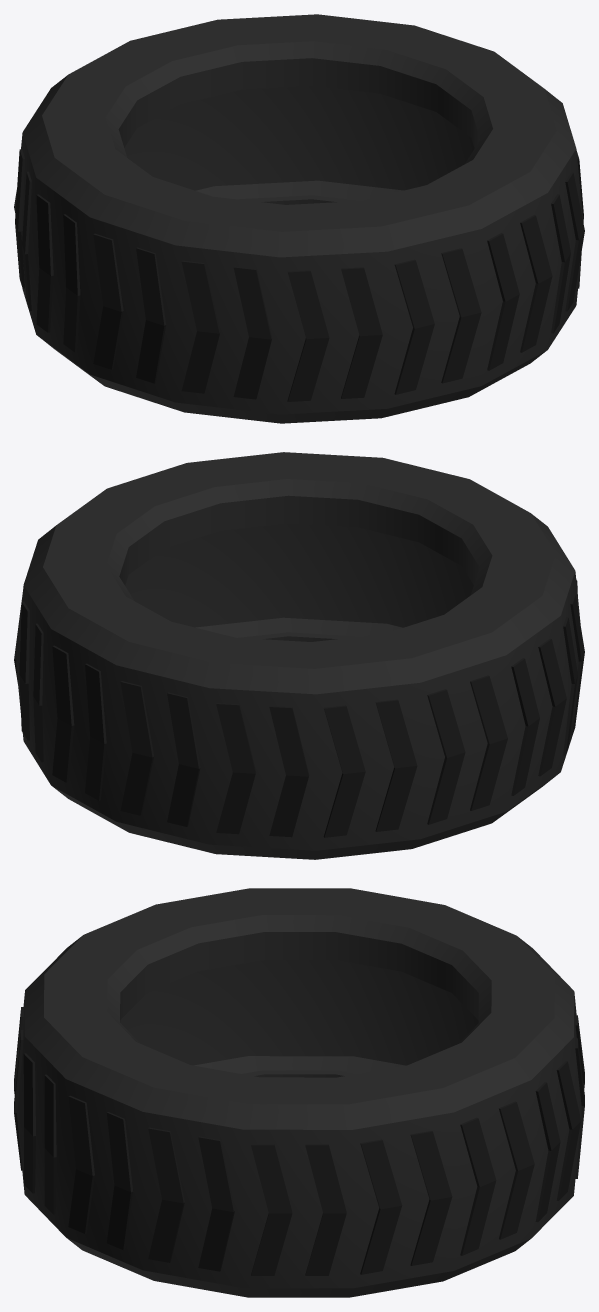
Rendered from Wheel_02.fbx.
3 renders of one model, top to bottom at view 1: azimuth 30°, elevation 25°; view 2: azimuth 150°, elevation 25°; view 3: azimuth 270°, elevation 25°, orthographic.
Visible parts, largest first — view 1: Wheel_02; view 2: Wheel_02; view 3: Wheel_02.
Boxes of the visible parts, x1,y1,x2,y2 form: Wheel_02: (14, 14, 584, 423); Wheel_02: (14, 452, 584, 859); Wheel_02: (14, 888, 584, 1297).
Bounding box in the file's own units: 84.74 × 31.67 × 84.74.
